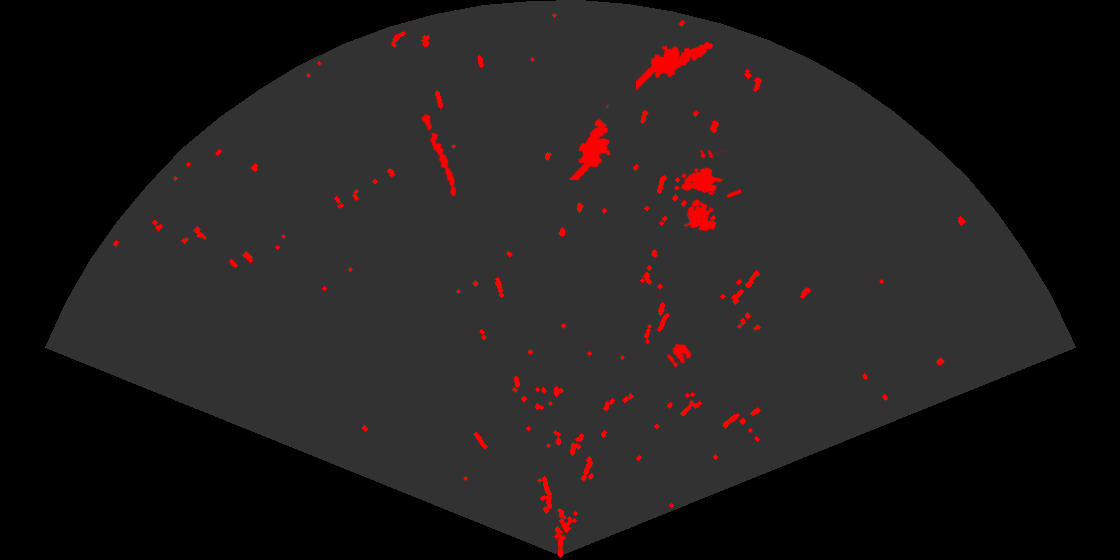ball: (665, 342, 693, 369)
cage: (672, 150, 741, 233)
chain: (419, 109, 458, 198)
frogman: (636, 40, 715, 92), (567, 103, 612, 180)
